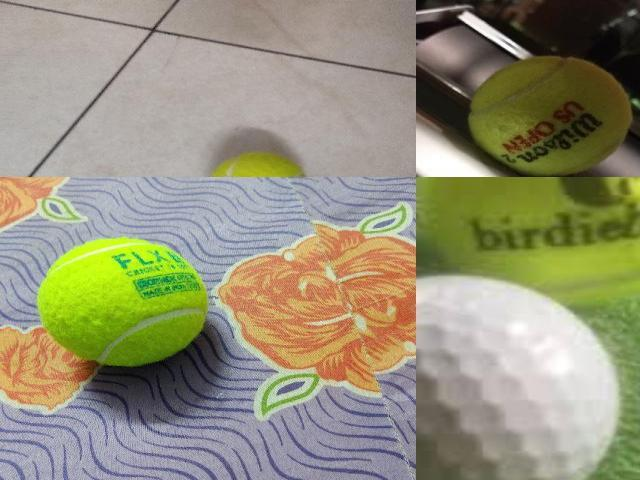tennis-ball: (36, 238, 210, 366), (416, 177, 639, 272), (463, 55, 635, 176), (207, 151, 312, 176)
